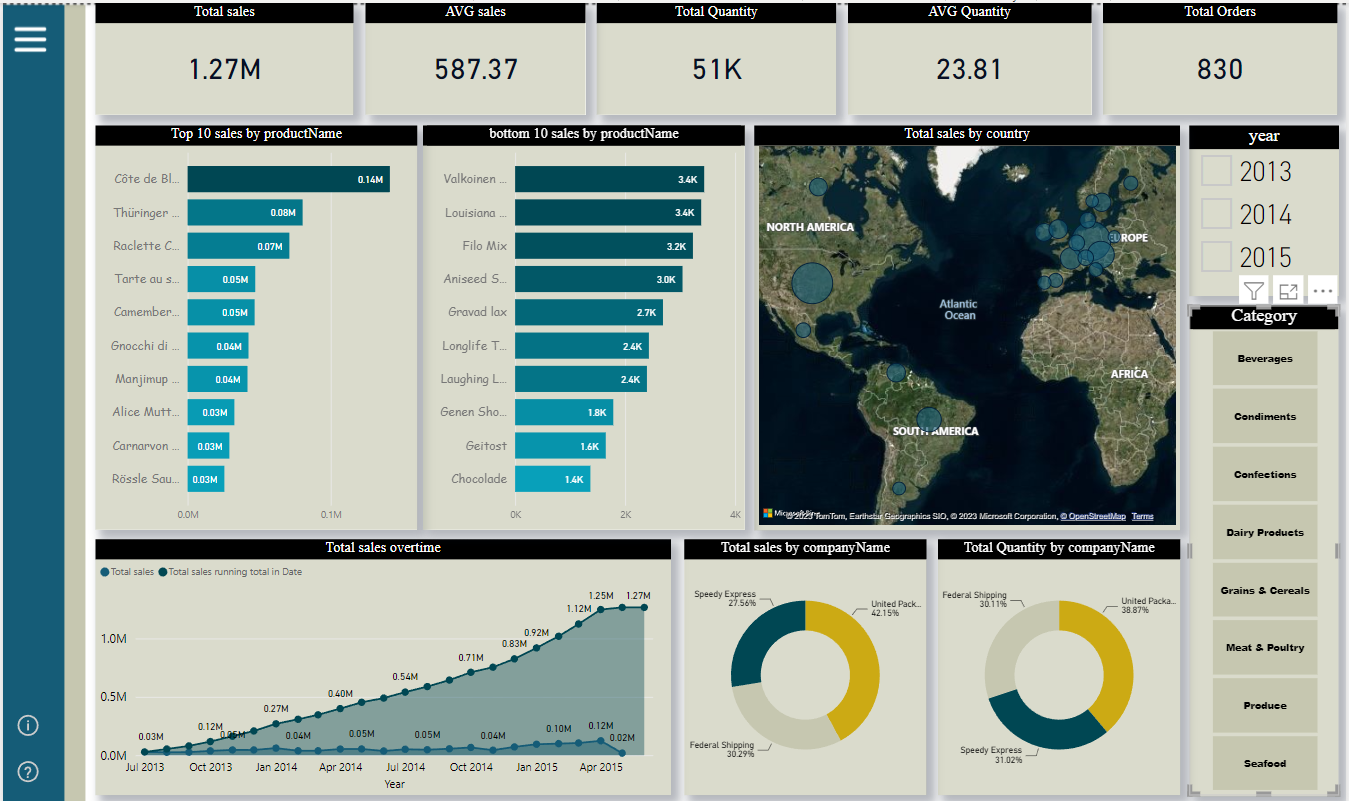

The page's visual inventory and layout, read from the dashboard file:
{"tool":"powerbi","page":{"name":"product","canvas":[1500,900],"ordinal":1},"visuals":[{"type":"card","title":"Total sales","fields":{"Values":["Measure.Total sales"]},"box":[103.2,0,287.8,125],"z":0},{"type":"actionButton","title":"Qs","box":[11.6,832.1,33.4,52.6],"z":0,"group":"g1"},{"type":"card","title":"Total Quantity","fields":{"Values":["Measure.Total Quantity"]},"box":[662.8,0,267.4,125],"z":1000},{"type":"actionButton","title":"Info","box":[11.6,779.5,33.4,52.6],"z":1000,"group":"g1"},{"type":"card","title":"Total Orders","fields":{"Values":["Measure.Total orders"]},"box":[1228.2,0,261.6,125],"z":2000},{"type":"actionButton","title":"Menu Button","box":[7,9.8,47.4,61.6],"z":2000,"group":"g1"},{"type":"card","title":"AVG Quantity","fields":{"Values":["Avg(orders.quantity)"]},"box":[943.3,0,271.8,125],"z":3000},{"type":"card","title":"AVG sales","fields":{"Values":["Avg(orders.Total gross)"]},"box":[404.1,0,245.6,125],"z":4000},{"type":"slicer","title":"year","fields":{"Values":["DimDate.Year"]},"box":[1324.1,136.6,167.2,190.4],"z":5000},{"type":"slicer","title":"Category","fields":{"Values":["products.categoryName"]},"box":[1324.1,337.2,167.2,548],"z":8000},{"type":"barChart","title":"Top 10 sales by productName","fields":{"Category":["products.productName"],"Y":["Measure.Total sales"]},"box":[103.8,136.9,359.5,451.3],"z":9000},{"type":"map","fields":{"Category":["customers.country"],"Size":["Measure.Total sales"]},"box":[838.7,136.6,475.3,452],"z":10000},{"type":"areaChart","title":"Total sales overtime","fields":{"Y":["Measure.Total sales","DimDate.Total sales running total in Date"],"Category":["DimDate.Date.Variation.Date Hierarchy.Year","DimDate.Date.Variation.Date Hierarchy.Quarter","DimDate.Date.Variation.Date Hierarchy.Month"]},"box":[103.8,598.7,642.3,285.8],"z":11000},{"type":"barChart","title":"bottom 10 sales by productName","fields":{"Category":["products.productName"],"Y":["Measure.Total sales"]},"box":[469.3,136.9,359.5,451.3],"z":12000},{"type":"donutChart","fields":{"Category":["shippers.companyName"],"Y":["Measure.Total sales"]},"box":[761.1,598.7,270.8,285.8],"z":13000},{"type":"donutChart","fields":{"Category":["shippers.companyName"],"Y":["Measure.Total Quantity"]},"box":[1043.9,598.7,270.8,285.8],"z":14000},{"type":"group","id":"g1","title":"Menu Bar","box":[7,9.8,47.4,874.9],"z":14250}]}

Visuals, with their boxes in screenshot pixels (x1, y1, x2, y2), scaled from the page's 1500x900 canvas onto the 1349x801 screenshot:
"Total sales" card: (left=93, top=0, right=352, bottom=111)
"Qs" actionButton: (left=10, top=741, right=40, bottom=787)
"Total Quantity" card: (left=596, top=0, right=837, bottom=111)
"Info" actionButton: (left=10, top=694, right=40, bottom=741)
"Total Orders" card: (left=1105, top=0, right=1340, bottom=111)
"Menu Button" actionButton: (left=6, top=9, right=49, bottom=64)
"AVG Quantity" card: (left=848, top=0, right=1093, bottom=111)
"AVG sales" card: (left=363, top=0, right=584, bottom=111)
"year" slicer: (left=1191, top=122, right=1341, bottom=291)
"Category" slicer: (left=1191, top=300, right=1341, bottom=788)
"Top 10 sales by productName" barChart: (left=93, top=122, right=417, bottom=523)
map - customers.country x Measure.Total sales: (left=754, top=122, right=1182, bottom=524)
"Total sales overtime" areaChart: (left=93, top=533, right=671, bottom=787)
"bottom 10 sales by productName" barChart: (left=422, top=122, right=745, bottom=523)
donutChart - shippers.companyName x Measure.Total sales: (left=684, top=533, right=928, bottom=787)
donutChart - shippers.companyName x Measure.Total Quantity: (left=939, top=533, right=1182, bottom=787)
"Menu Bar" group: (left=6, top=9, right=49, bottom=787)
